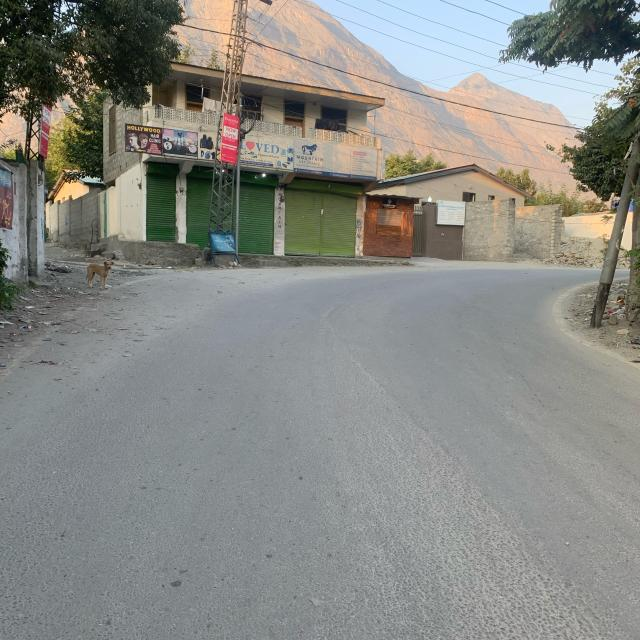Left-Turn: (45, 240, 85, 330)
Right-Turn: (275, 264, 590, 411)
